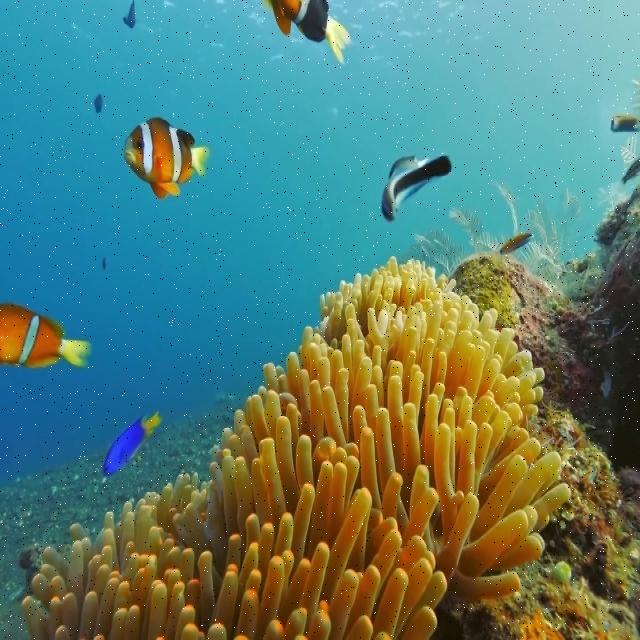fish: (125, 116, 211, 200), (0, 302, 90, 372), (265, 0, 352, 64), (378, 153, 453, 225), (103, 409, 166, 477)
reefs: (20, 254, 571, 639)
sea-floor: (435, 187, 639, 639)
